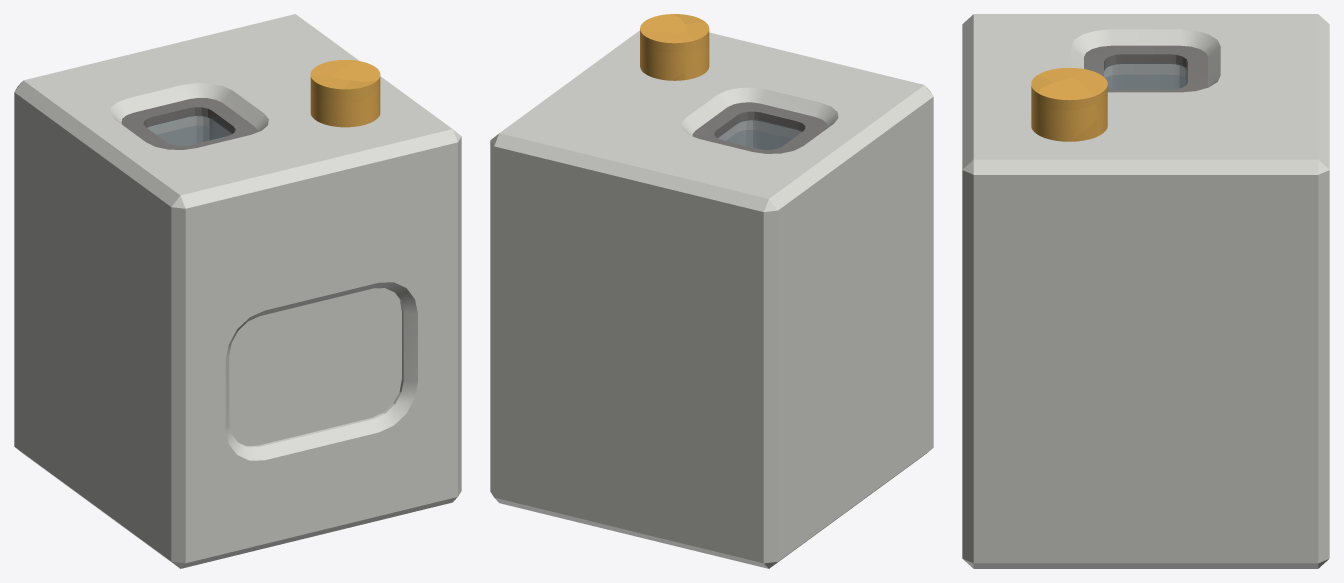
The model's file is ax_util_17_spectrometer.glb.
The picture shows the model from 3 angles, left to right: view 1: azimuth 30°, elevation 25°; view 2: azimuth 150°, elevation 25°; view 3: azimuth 270°, elevation 25°; orthographic projection. The views are drawn at different scales.
Visible parts, largest first — view 1: housing, detector_head, view_port_frame, view_port_glass; view 2: housing, detector_head, view_port_frame, view_port_glass; view 3: housing, detector_head, view_port_frame, view_port_glass.
Boxes of the visible parts, box(x1,y1,x2,y2) form: housing: box(14, 14, 461, 568); detector_head: box(310, 60, 380, 127); view_port_frame: box(121, 98, 257, 149); view_port_glass: box(146, 115, 232, 145); housing: box(490, 30, 933, 568); detector_head: box(640, 14, 709, 80); view_port_frame: box(692, 102, 827, 153); view_port_glass: box(717, 119, 802, 149); housing: box(962, 14, 1329, 568); detector_head: box(1031, 68, 1107, 141); view_port_frame: box(1084, 45, 1207, 92); view_port_glass: box(1104, 63, 1187, 89).
Bounding box in the file's own units: 0.48 × 0.65 × 0.48.
Materials: 4 (2 with a texture image).
